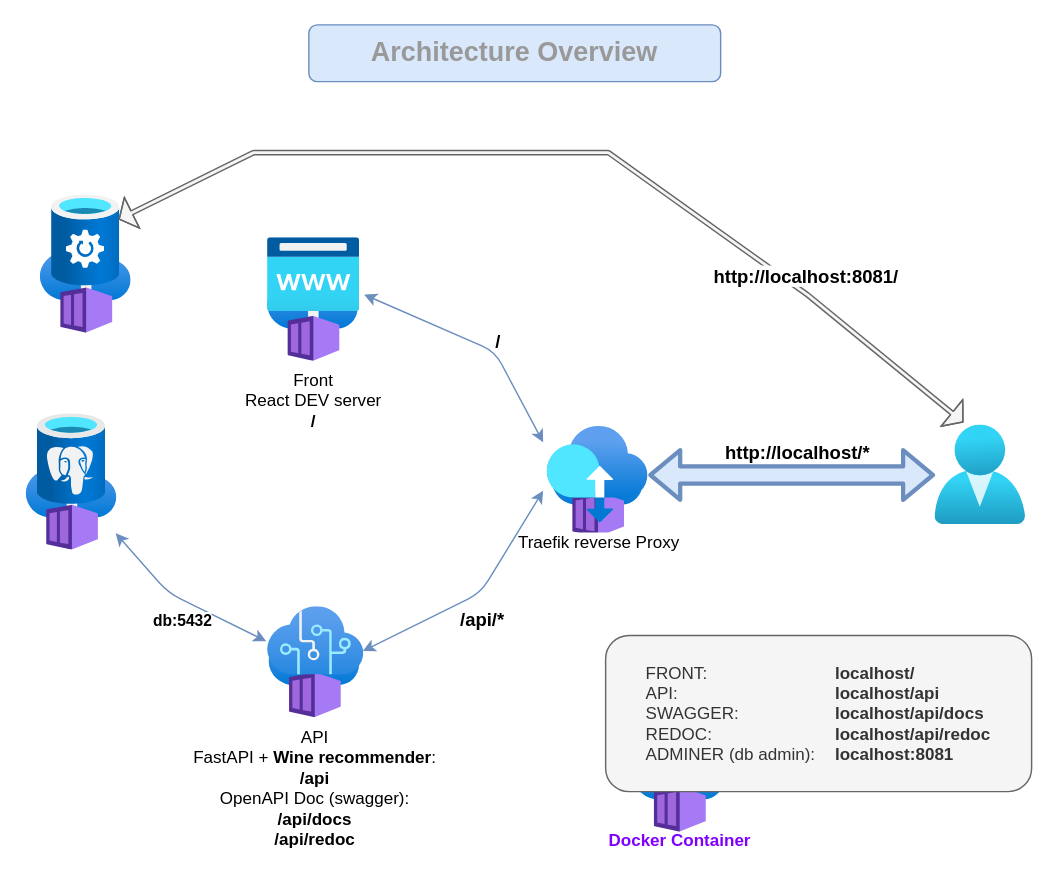
The diagram is 1056 pixels wide and 880 high, and some of its shapes have lost their labels. The shapes that lost their labels are listed below. From the top down, each one's box as (x1, y1, x2, y2) in pixels, then its label:
(40, 235, 131, 333): adminer :8081/
(26, 453, 116, 550): Postgres DB
